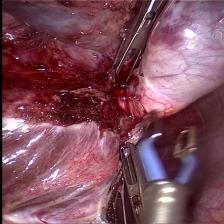Bipolar: (132, 101, 212, 213)
Grasper: (102, 2, 169, 91), (113, 139, 147, 207)
